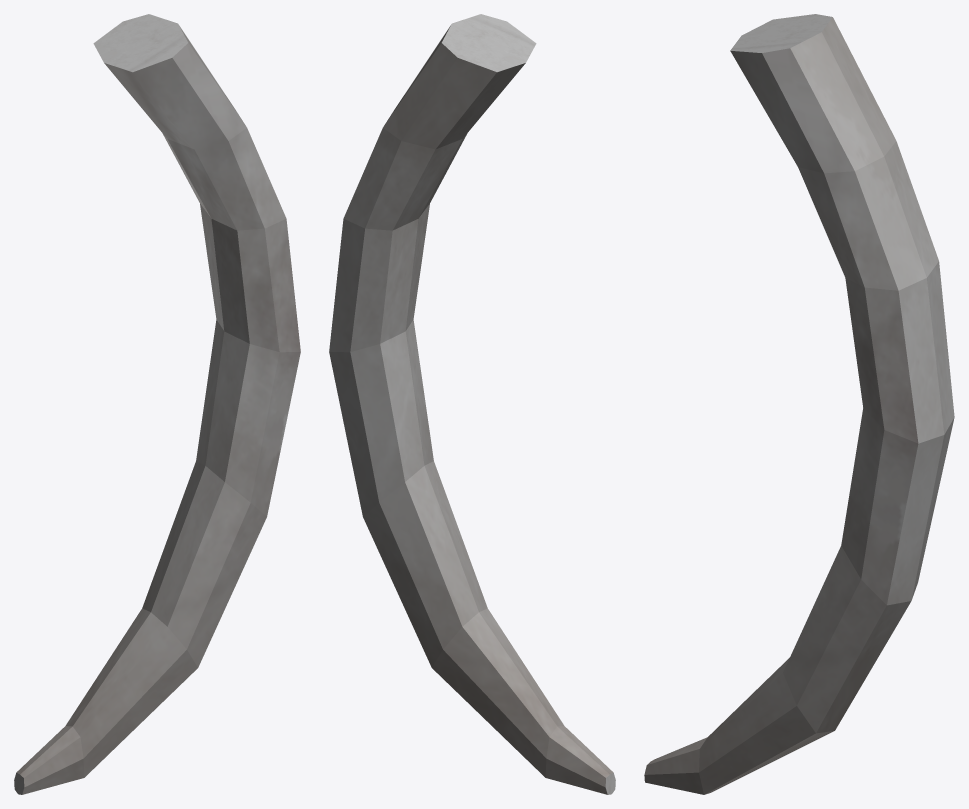
The model's file is 3DObj_Bone_V1.fbx.
The picture shows the model from 3 angles, left to right: view 1: azimuth 30°, elevation 25°; view 2: azimuth 150°, elevation 25°; view 3: azimuth 330°, elevation 25°; orthographic projection. The views are drawn at different scales.
Visible parts, largest first — view 1: 3DObj_Bone_V1; view 2: 3DObj_Bone_V1; view 3: 3DObj_Bone_V1.
Boxes of the visible parts, x1,y1,x2,y2 form: 3DObj_Bone_V1: (14, 14, 300, 794); 3DObj_Bone_V1: (329, 14, 615, 794); 3DObj_Bone_V1: (644, 14, 954, 794).
Size of the model in its own units: 112 by 287 by 35.15.
Materials: 1 (1 with a texture image).
